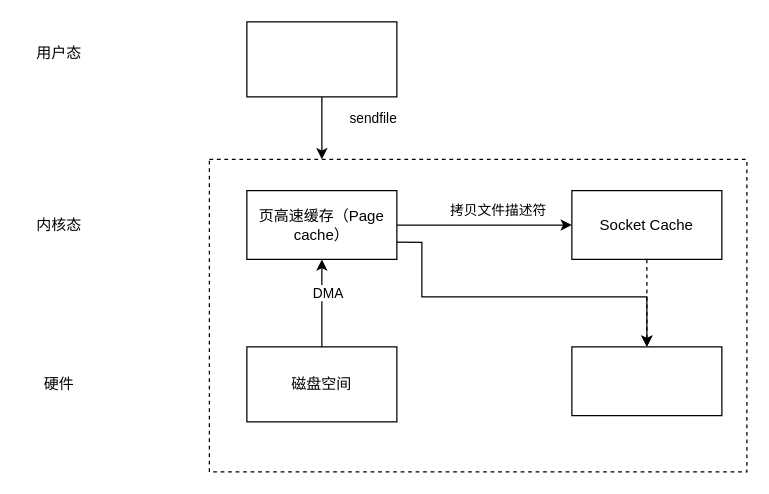
Some shapes in this 769 by 494 pixel diagram are drawn without their labels. Here are the shapes that lost their labels. From the top down, the box of each, then its label:
(246, 21, 397, 97): 应用的缓存空间
(571, 346, 722, 416): 网卡端
